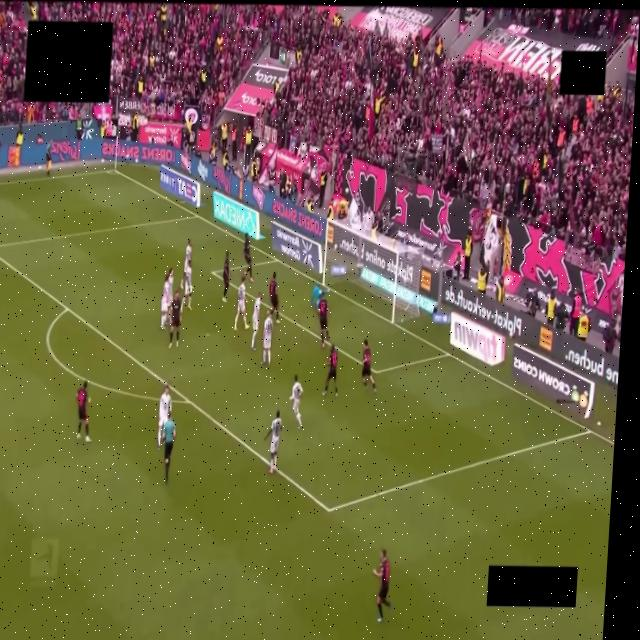ball: (334, 244, 337, 250)
player: (372, 550, 391, 621), (263, 410, 281, 473), (76, 381, 90, 442), (157, 386, 170, 450), (234, 273, 248, 330), (322, 345, 337, 396), (361, 339, 375, 393), (290, 375, 302, 428), (169, 292, 180, 348), (317, 297, 328, 348), (160, 275, 170, 329), (262, 310, 272, 364), (180, 240, 191, 289), (251, 292, 260, 350), (181, 260, 191, 310), (243, 234, 253, 282), (269, 272, 278, 323), (310, 285, 327, 308), (222, 252, 229, 302), (168, 267, 173, 292)
referee: (162, 411, 175, 483)
